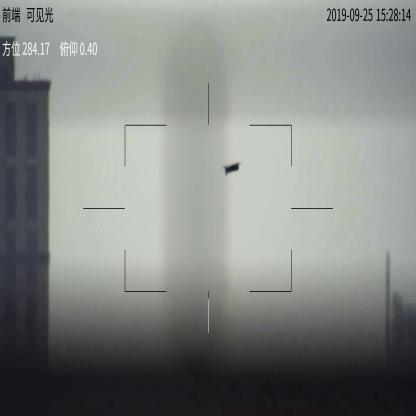uav: (222, 161, 239, 174)
